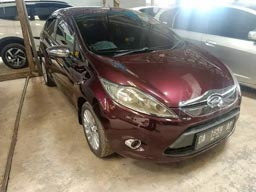plat: (196, 116, 236, 148)
